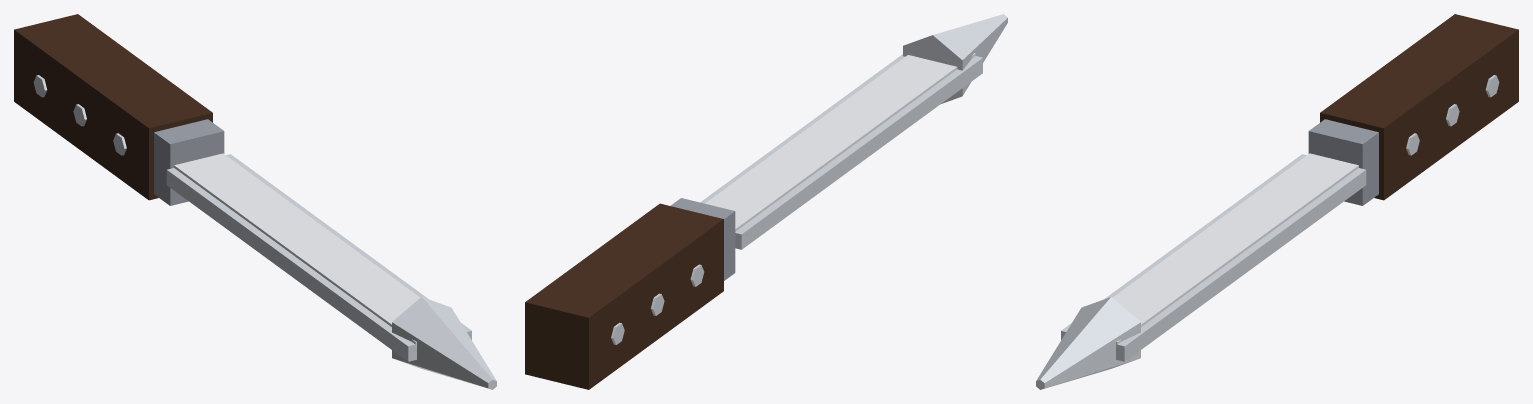
The model's file is knife.glb.
3 renders of one model, left to right at view 1: azimuth 30°, elevation 25°; view 2: azimuth 150°, elevation 25°; view 3: azimuth 330°, elevation 25°, orthographic.
Visible parts, largest first — view 1: knife; view 2: knife; view 3: knife.
Part boxes in pixels (left/top/right/bottom): knife: left=14, top=14, right=496, bottom=389; knife: left=525, top=14, right=1007, bottom=389; knife: left=1036, top=14, right=1518, bottom=389.
Size of the model in its own units: 0.028 by 0.028 by 0.3145.
